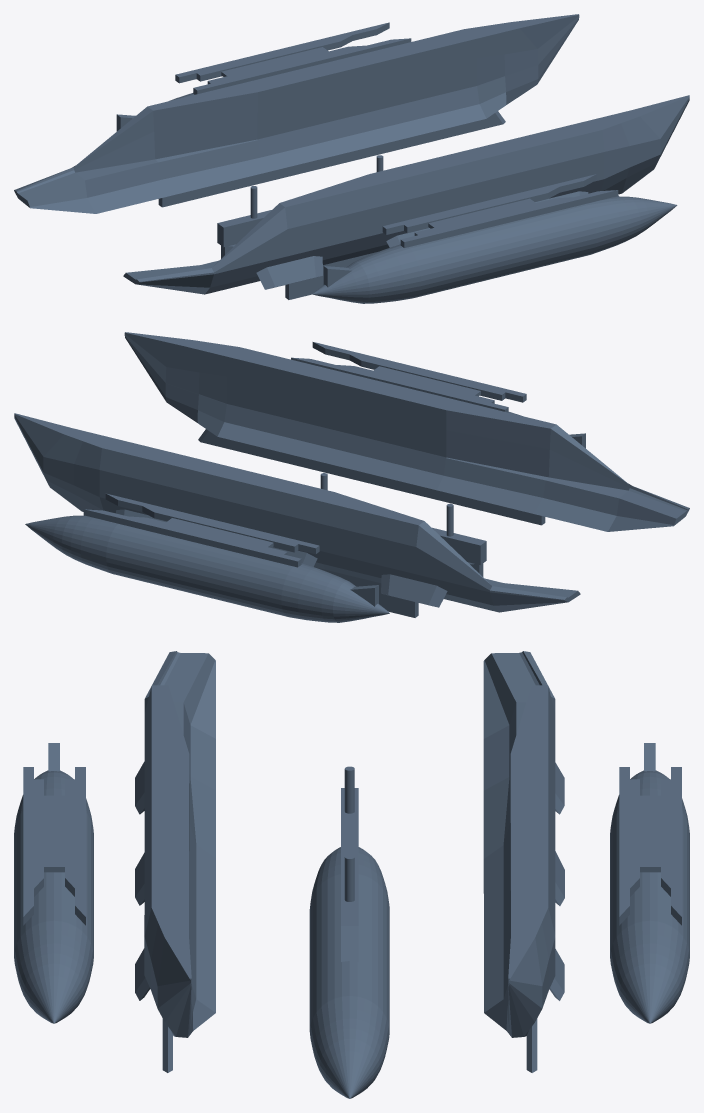
3 views of the same model, one above another, from view 1: azimuth 30°, elevation 25°; view 2: azimuth 150°, elevation 25°; view 3: azimuth 270°, elevation 25° (orthographic). The views are drawn at different scales.
Parts seen in each view (by area): view 1: 立方体.016, 立方体.015, 円柱.001, 立方体.021, 立方体.005, 立方体, 立方体.017, 立方体.002, 立方体.007, 立方体.003, 立方体.008, 立方体.013 (+5 smaller); view 2: 立方体.015, 立方体.016, 円柱, 立方体.014, 立方体.002, 立方体.023, 立方体.007, 立方体, 立方体.005, 立方体.001, 立方体.006, 立方体.021 (+5 smaller); view 3: 立方体.016, 立方体.015, 円柱.002, 円柱, 円柱.001, 立方体.013, 立方体, 立方体.005, 立方体.002, 立方体.007, 立方体.004, 立方体.009 (+4 smaller).
Boxes of the visible parts, bbox=[...] form: 立方体.016: bbox=[14, 14, 579, 213]; 立方体.015: bbox=[123, 95, 689, 294]; 円柱.001: bbox=[312, 196, 677, 303]; 立方体.021: bbox=[158, 111, 505, 207]; 立方体.005: bbox=[400, 190, 618, 247]; 立方体: bbox=[193, 38, 411, 94]; 立方体.017: bbox=[256, 256, 322, 289]; 立方体.002: bbox=[175, 22, 389, 83]; 立方体.007: bbox=[382, 174, 596, 234]; 立方体.003: bbox=[196, 35, 352, 81]; 立方体.008: bbox=[404, 187, 559, 233]; 立方体.013: bbox=[217, 210, 271, 247]; 立方体.015: bbox=[124, 332, 689, 531]; 立方体.016: bbox=[14, 413, 580, 612]; 円柱: bbox=[25, 515, 389, 622]; 立方体.014: bbox=[198, 429, 545, 525]; 立方体.002: bbox=[83, 509, 301, 567]; 立方体.023: bbox=[381, 574, 447, 607]; 立方体.007: bbox=[291, 357, 508, 412]; 立方体: bbox=[105, 493, 319, 554]; 立方体.005: bbox=[312, 342, 526, 402]; 立方体.001: bbox=[142, 506, 298, 552]; 立方体.006: bbox=[349, 354, 505, 400]; 立方体.021: bbox=[84, 509, 418, 617]; 立方体.016: bbox=[483, 651, 555, 1037]; 立方体.015: bbox=[144, 651, 215, 1037]; 円柱.002: bbox=[309, 847, 389, 1098]; 円柱: bbox=[610, 770, 689, 1023]; 円柱.001: bbox=[14, 770, 93, 1023]; 立方体.013: bbox=[341, 788, 358, 961]; 立方体: bbox=[619, 767, 629, 925]; 立方体.005: bbox=[23, 767, 33, 925]; 立方体.002: bbox=[671, 767, 681, 925]; 立方体.007: bbox=[75, 767, 85, 925]; 立方体.004: bbox=[640, 795, 660, 872]; 立方体.009: bbox=[44, 795, 64, 872].
Size of the model in its own units: 8.26 by 1.95 by 6.03.
